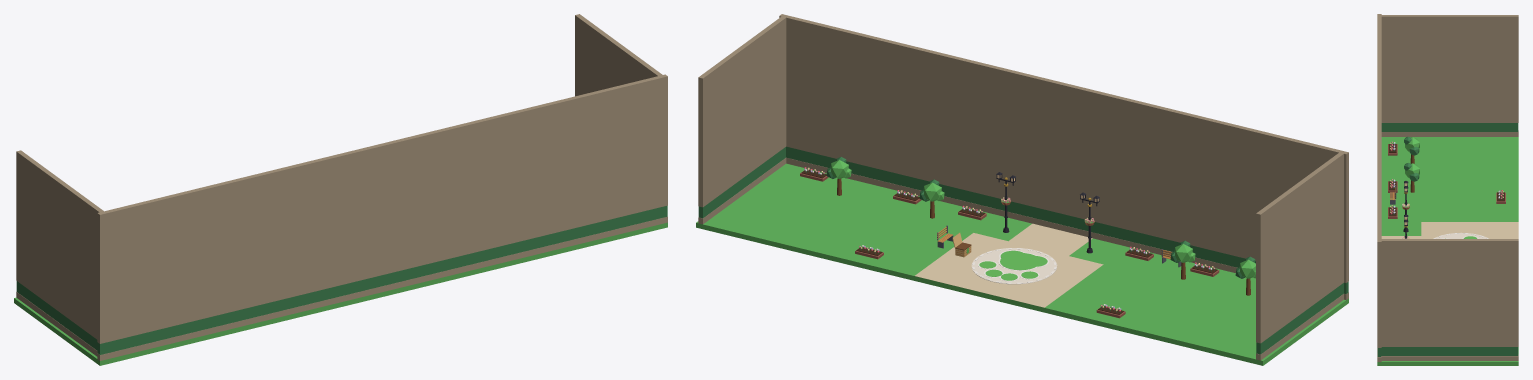
Rendered from CatCafe_Camp_ParkF85.glb.
3 renders of one model, left to right at view 1: azimuth 30°, elevation 25°; view 2: azimuth 150°, elevation 25°; view 3: azimuth 270°, elevation 25°, orthographic. The views are drawn at different scales.
Visible parts, largest first — view 1: CatCafe_Camp_ParkF85_Barrier, CatCafe_Camp_ParkF85; view 2: CatCafe_Camp_ParkF85_Barrier, CatCafe_Camp_ParkF85; view 3: CatCafe_Camp_ParkF85_Barrier, CatCafe_Camp_ParkF85, CatCafe_Camp_ParkF85_003_Tree, CatCafe_Camp_ParkF85_004_Tree, CatCafe_Camp_ParkF85_002_Lamp.
Part boxes in pixels (box(x1,y1,x2,y2)): CatCafe_Camp_ParkF85_Barrier: box(16, 14, 667, 343); CatCafe_Camp_ParkF85: box(14, 205, 667, 365); CatCafe_Camp_ParkF85_Barrier: box(698, 14, 1348, 343); CatCafe_Camp_ParkF85: box(696, 146, 1348, 365); CatCafe_Camp_ParkF85_Barrier: box(1377, 14, 1518, 347); CatCafe_Camp_ParkF85: box(1377, 123, 1518, 365); CatCafe_Camp_ParkF85_003_Tree: box(1404, 163, 1419, 192); CatCafe_Camp_ParkF85_004_Tree: box(1404, 136, 1419, 163); CatCafe_Camp_ParkF85_002_Lamp: box(1402, 181, 1409, 232).
Size of the model in its own units: 122 by 31 by 32.
Materials: 1 (1 with a texture image).
